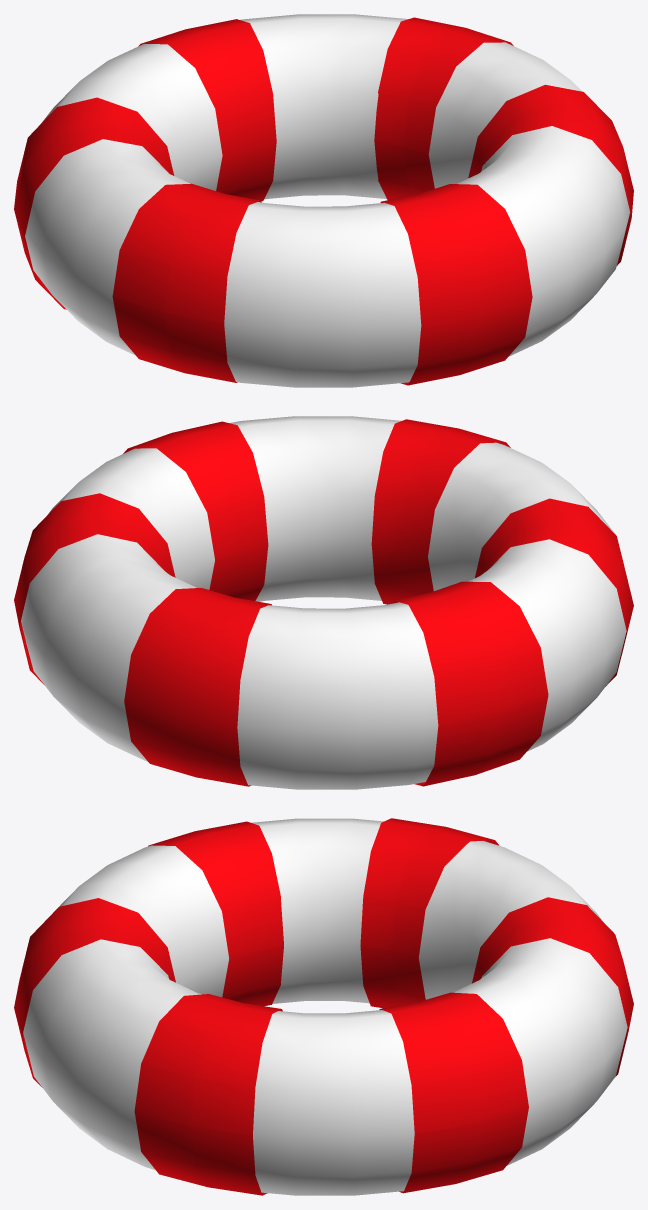
The model's file is floatie.fbx.
3 renders of one model, top to bottom at view 1: azimuth 30°, elevation 25°; view 2: azimuth 150°, elevation 25°; view 3: azimuth 270°, elevation 25°, orthographic.
Parts seen in each view (by area): view 1: float, float.006; view 2: float, float.006; view 3: float, float.006.
Boxes of the visible parts, <box> form: float: <box>25,14,630,387</box>; float.006: <box>14,17,633,385</box>; float: <box>21,416,626,789</box>; float.006: <box>14,419,633,786</box>; float: <box>23,818,627,1195</box>; float.006: <box>14,818,633,1195</box>.
Size of the model in its own units: 228 by 72.54 by 228.
1 material, 1 textured.
